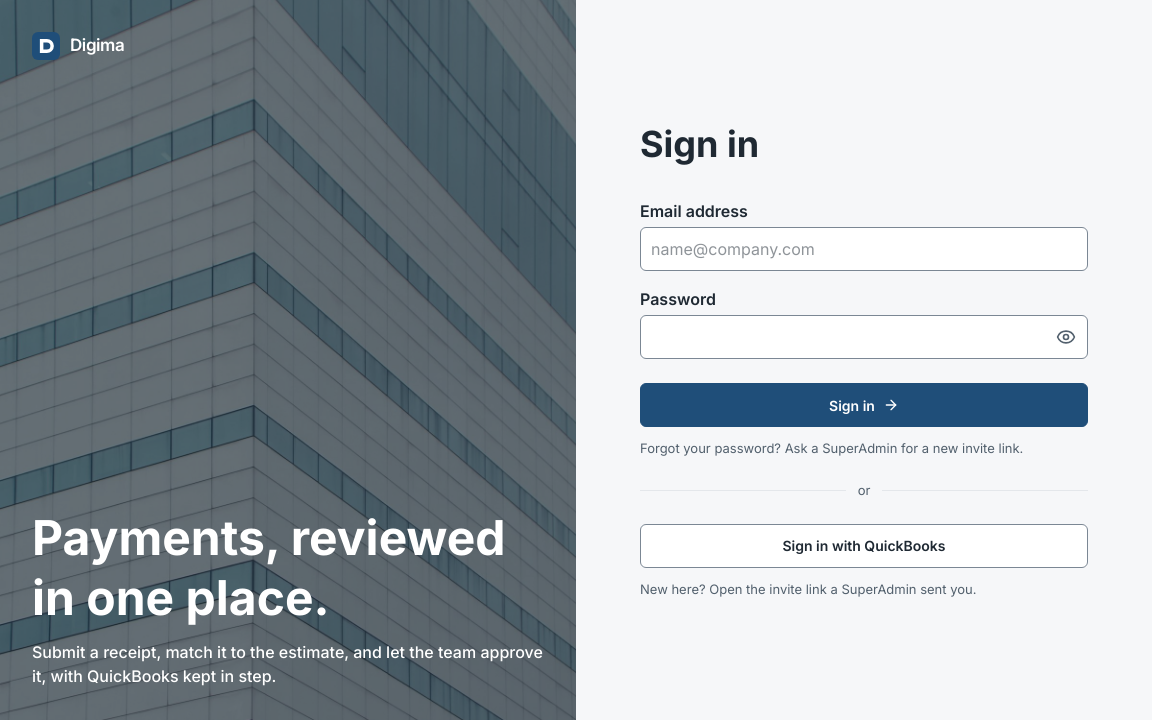
LoginPage › shows the server error for a wrong password
Type "a@b.co" into the field labelled "Email address" at (864, 249), box [640,227,1088,271]
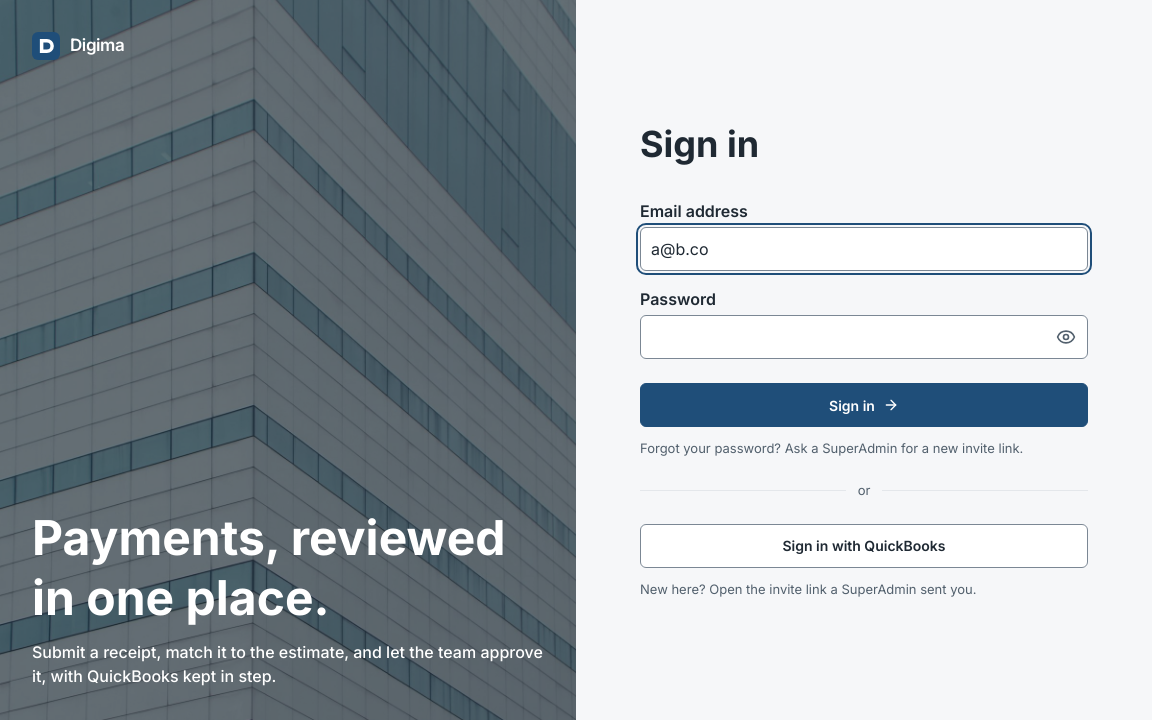
Type "wrong" into the password field labelled "Password" at (864, 337), box [640,315,1088,359]
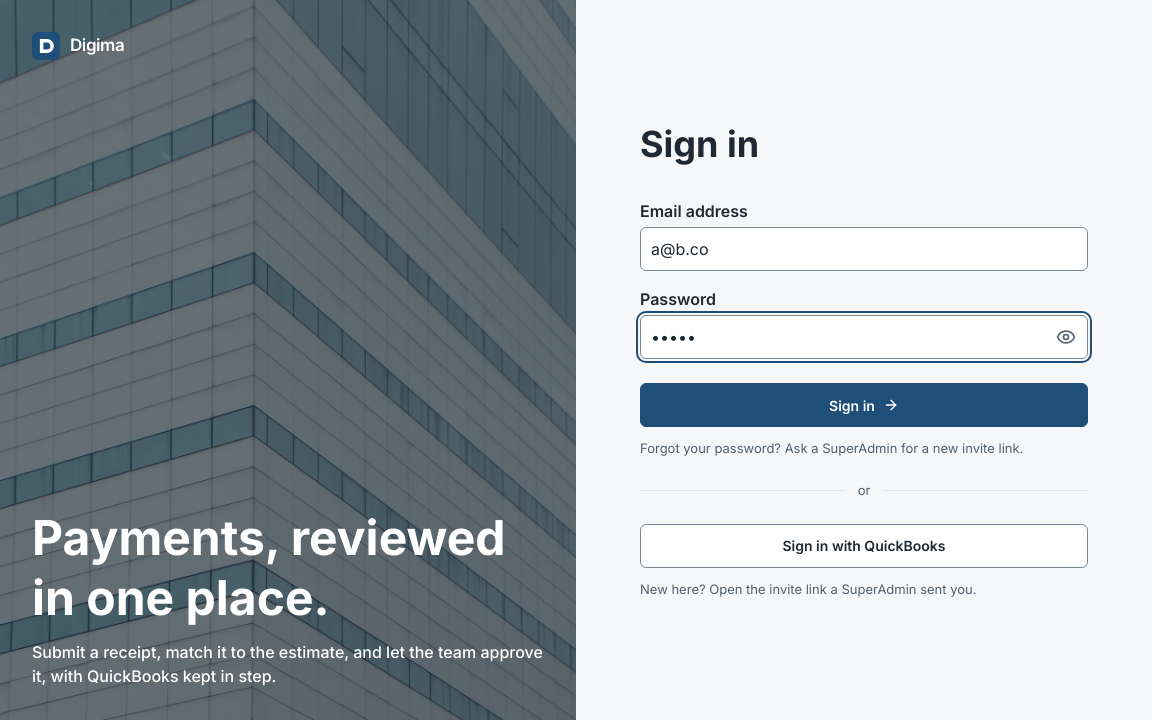
Click the button "Sign in" at (864, 405), box [640,383,1088,427]
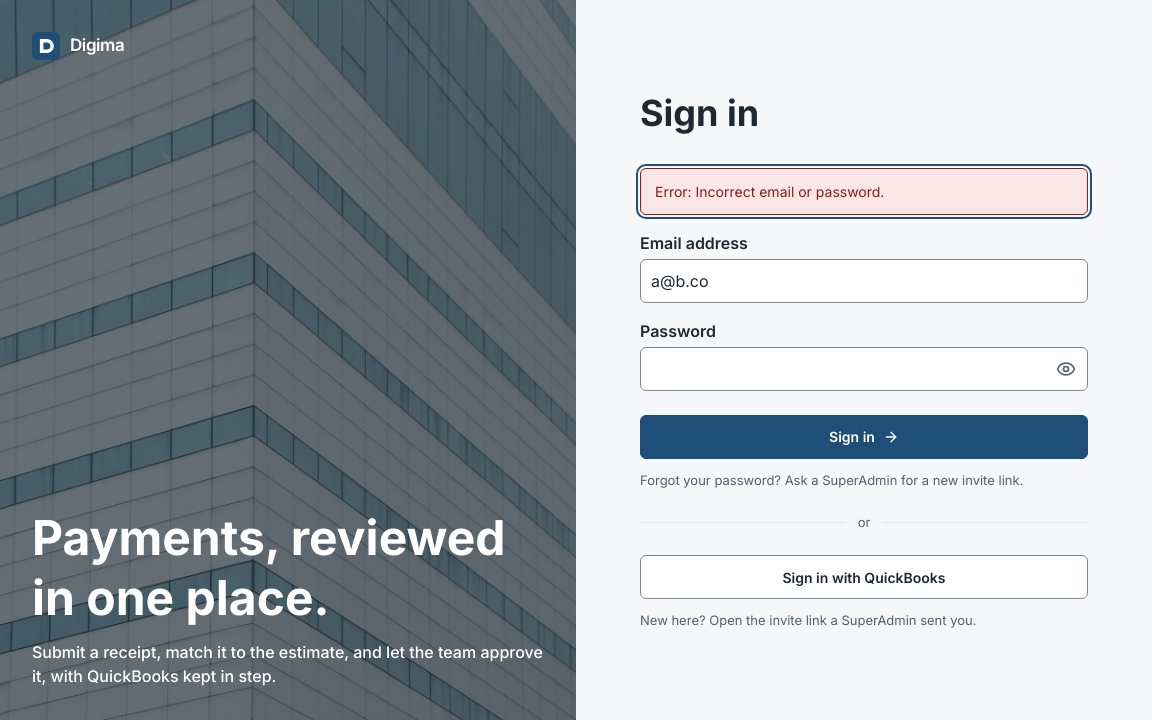
Check: the message shows "Incorrect email or password.", box [696,183,884,200]
